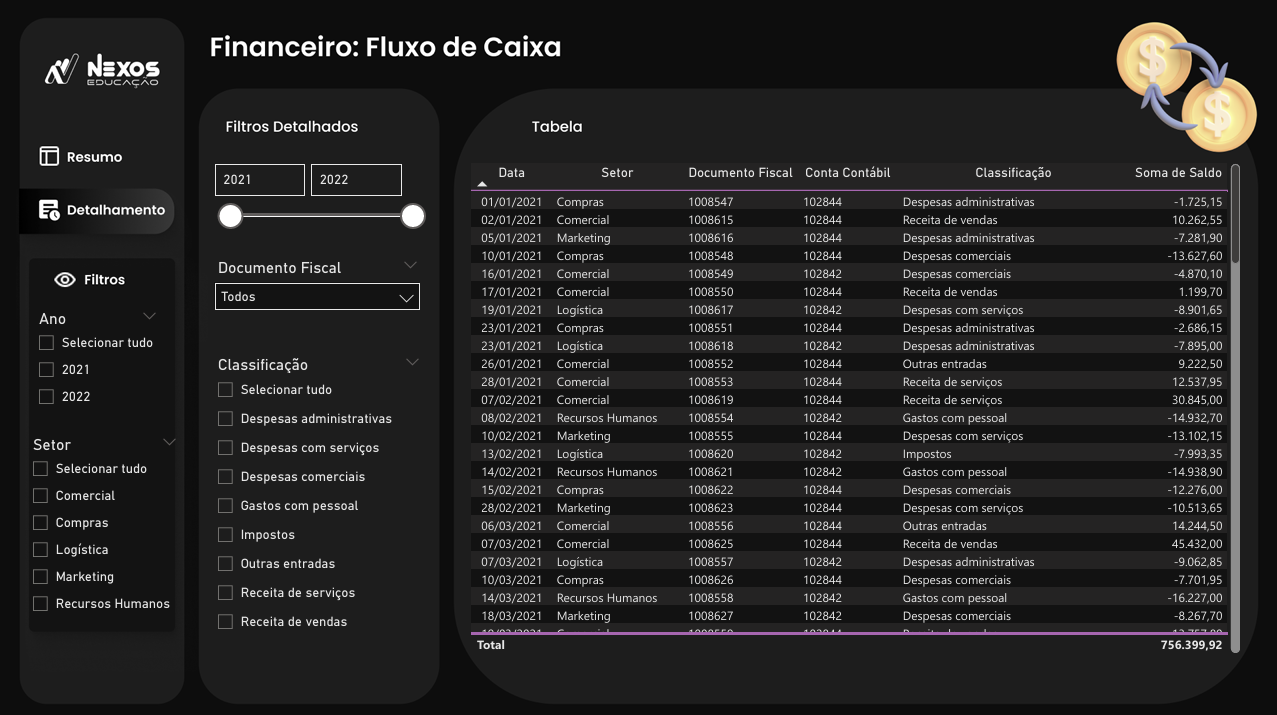

The dashboard page shown, as its layout file describes it:
{"tool":"powerbi","page":{"name":"Página 2","canvas":[1280,720],"ordinal":1},"visuals":[{"type":"slicer","fields":{"Values":["Movimentações.Data.Variation.Hierarquia de datas.Ano"]},"box":[27.2,305.4,143.1,127],"z":0},{"type":"slicer","fields":{"Values":["Setores.Setor"]},"box":[21,431,169,197],"z":1000},{"type":"slicer","fields":{"Values":["Movimentações.Data.Variation.Hierarquia de datas.Ano"]},"box":[202.6,155.2,232.8,127],"z":2000},{"type":"slicer","fields":{"Values":["Movimentações.Documento Fiscal"]},"box":[206,254,225,170],"z":3000},{"type":"slicer","fields":{"Values":["Movimentações.Classificação"]},"box":[206,351,227,308],"z":4000},{"type":"tableEx","fields":{"Values":["Movimentações.Data","Setores.Setor","Movimentações.Documento Fiscal","Movimentações.Conta Contábil","Movimentações.Classificação","Sum(Movimentações.Saldo)"]},"box":[467.3,160,779.1,499.1],"z":5000},{"type":"shape","box":[27,141,143,37],"z":5001}]}

Visuals, with their boxes on the page's 1280x720 design canvas (x1, y1, x2, y2). These are canvas units, not pixel positions in the 1277x715 screenshot, which may show the page scaled, cropped or inside an application window:
slicer - Movimentações.Data.Variation.Hierarquia de datas.Ano: Rect(27, 305, 170, 432)
slicer - Setores.Setor: Rect(21, 431, 190, 628)
slicer - Movimentações.Data.Variation.Hierarquia de datas.Ano: Rect(203, 155, 435, 282)
slicer - Movimentações.Documento Fiscal: Rect(206, 254, 431, 424)
slicer - Movimentações.Classificação: Rect(206, 351, 433, 659)
tableEx - Movimentações.Data x Setores.Setor: Rect(467, 160, 1246, 659)
shape: Rect(27, 141, 170, 178)
